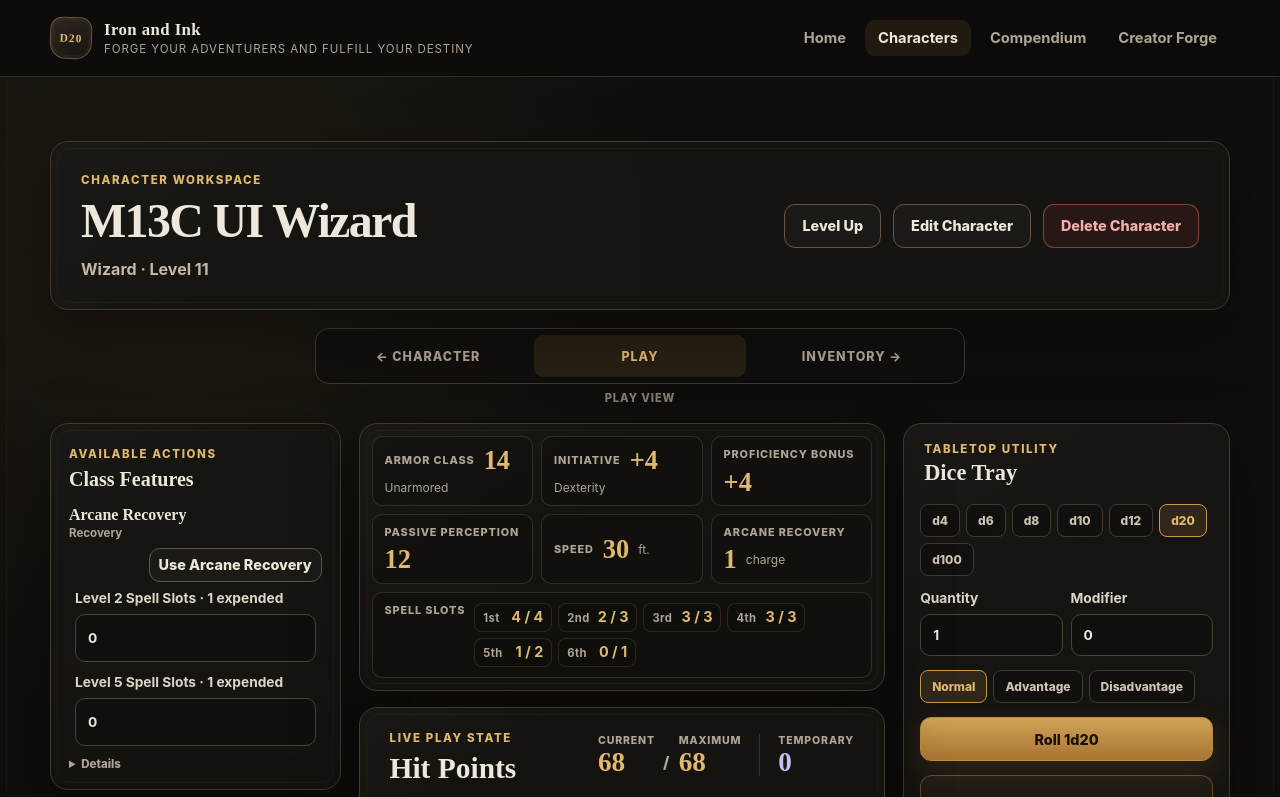
Scenario: Milestone 13C PLAY resource transactions › renders and executes real Wizard Arcane Recovery generically with weighted budget enforcement
Replace the text in the number field labelled "Level 5 Spell Slots · 1 expended" with "1" at [195, 722], box [75,698,316,746]
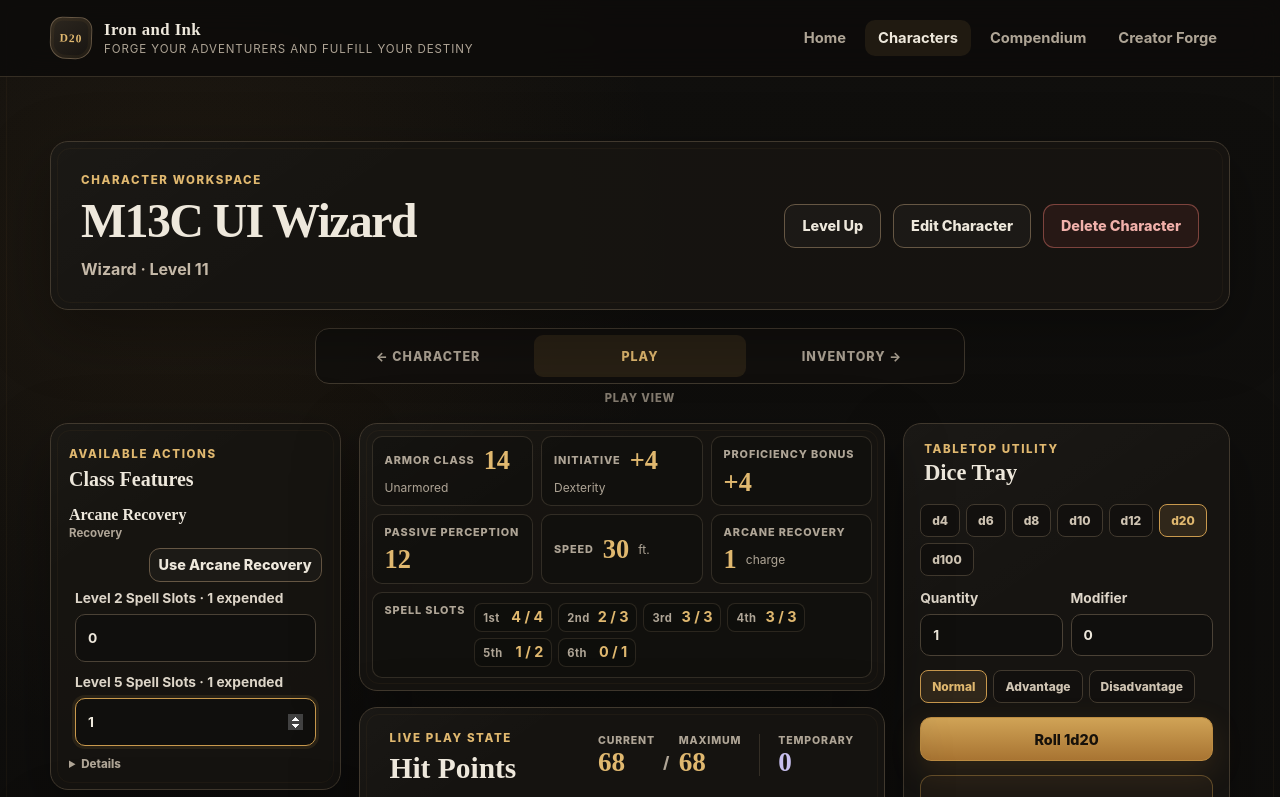
Replace the text in the number field labelled "Level 2 Spell Slots · 1 expended" with "1" at [195, 638], box [75,614,316,662]
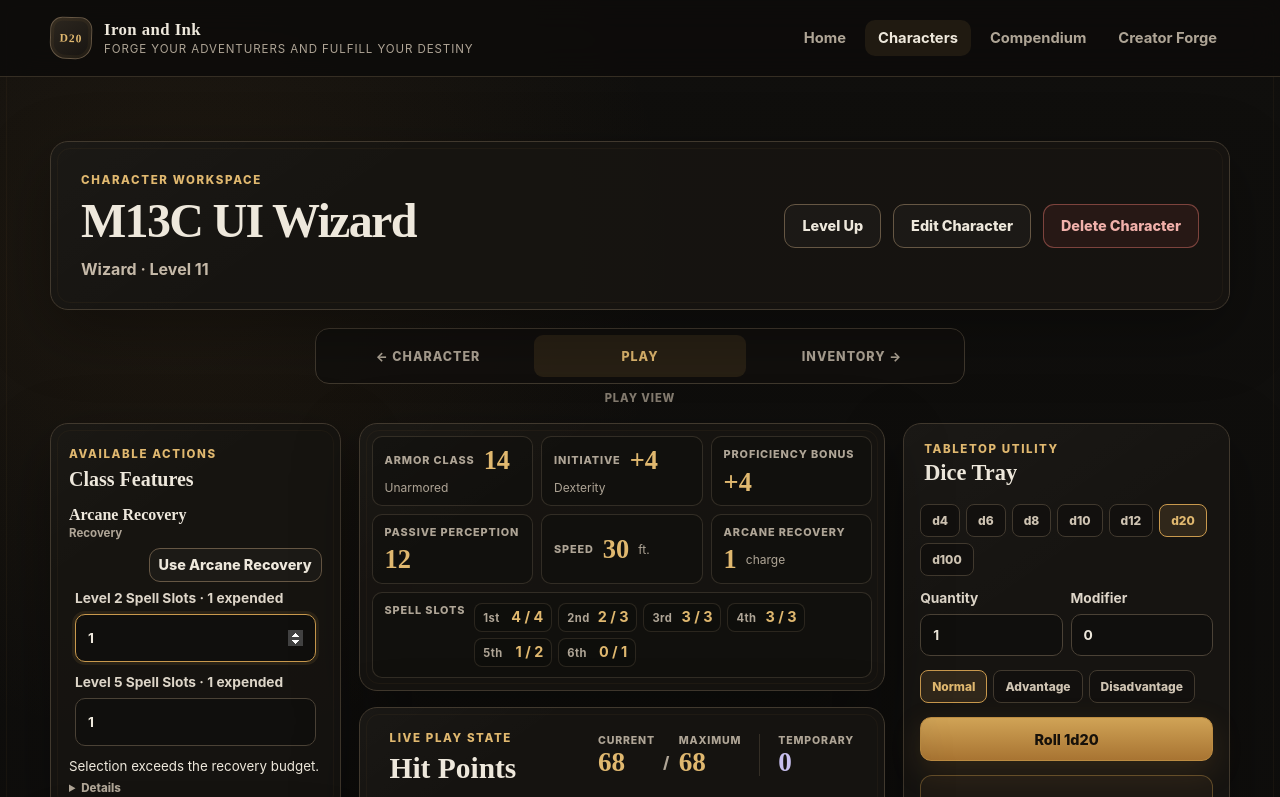
Replace the text in the number field labelled "Level 2 Spell Slots · 1 expended" with "0" at [195, 638], box [75,614,316,662]
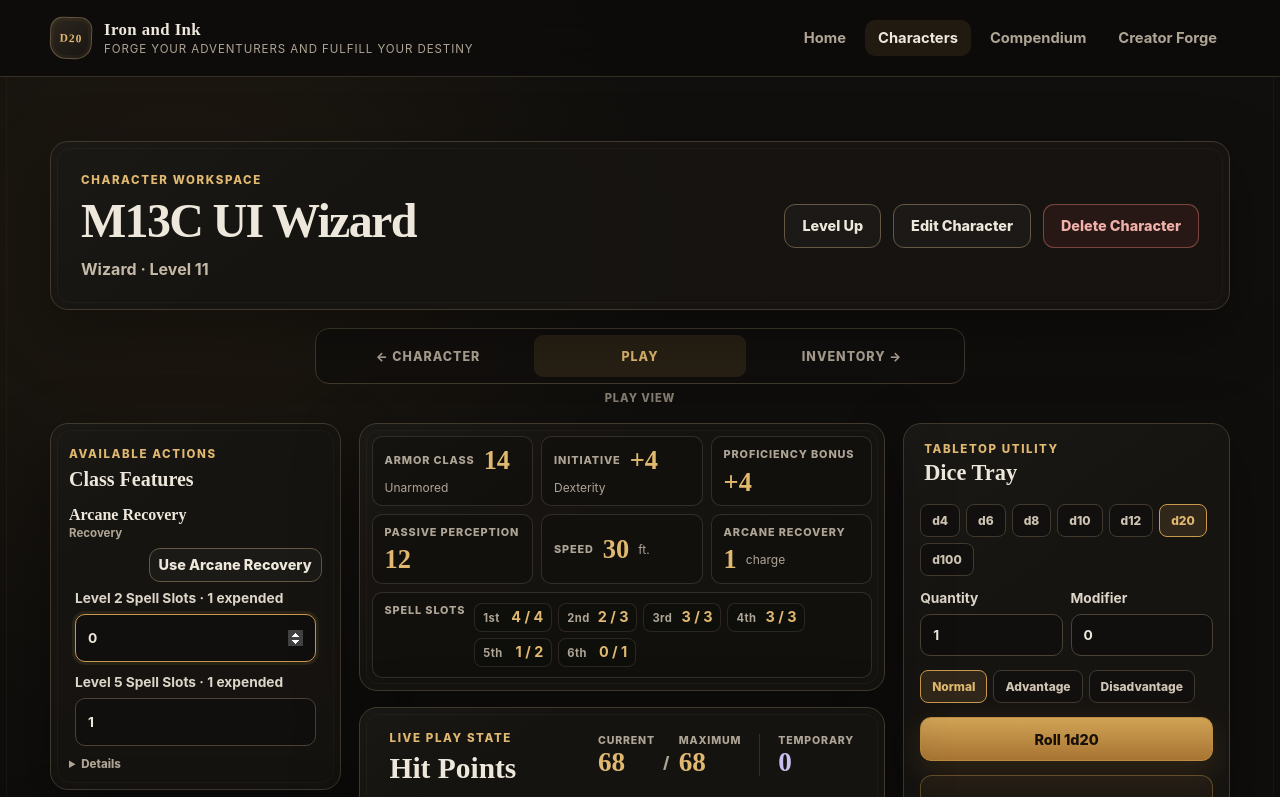
Click the button "Use Arcane Recovery".
click(235, 565)  # box [148,548,322,582]
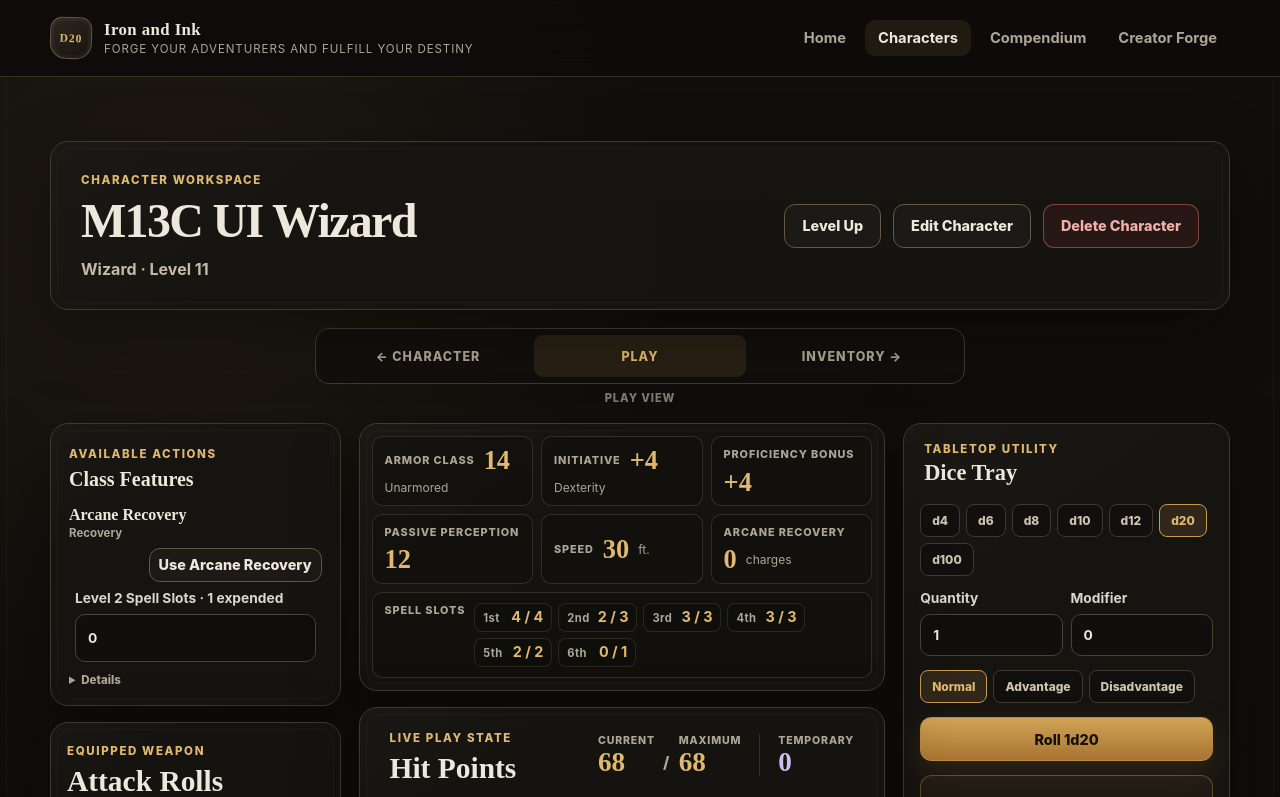
Result: the text "0" next to "charges" is shown at [724,544,737,574]
